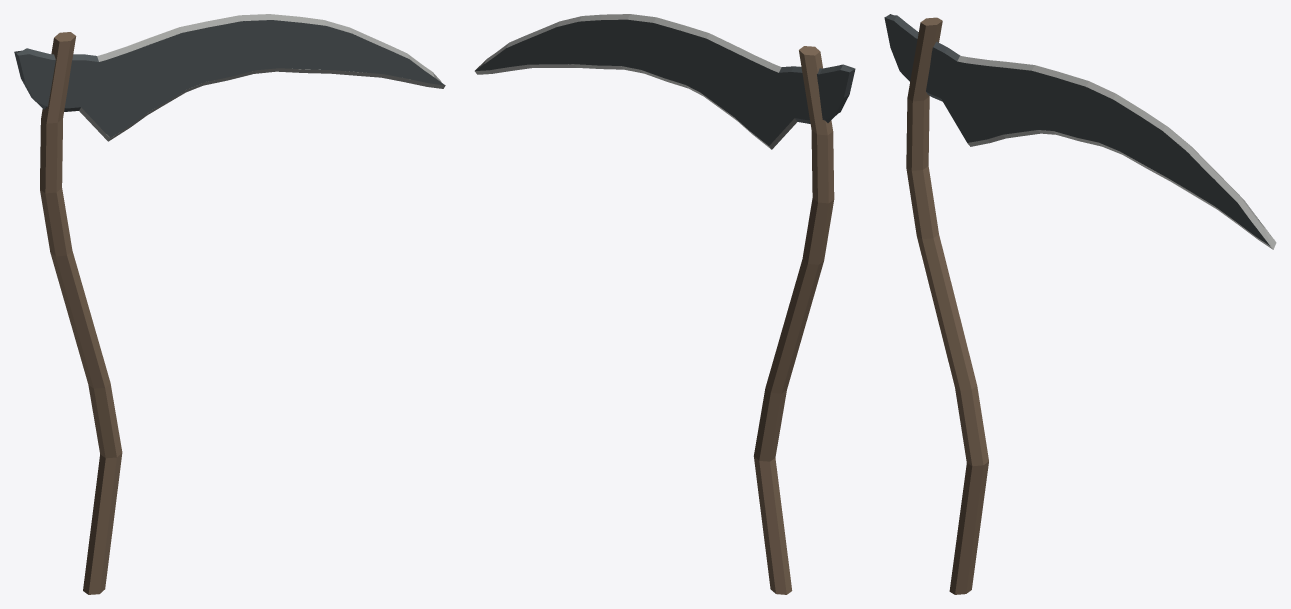
File: Scythe.glb
3 views of the same model, side by side, from view 1: azimuth 30°, elevation 25°; view 2: azimuth 150°, elevation 25°; view 3: azimuth 330°, elevation 25° (orthographic). The views are drawn at different scales.
Parts seen in each view (by area): view 1: Scythe; view 2: Scythe; view 3: Scythe.
Part boxes in pixels (x1=…): Scythe: x1=14, y1=14, x2=445, y2=594; Scythe: x1=474, y1=14, x2=855, y2=594; Scythe: x1=884, y1=14, x2=1276, y2=594.
Bounding box in the file's own units: 1.4 × 1.85 × 0.161.
